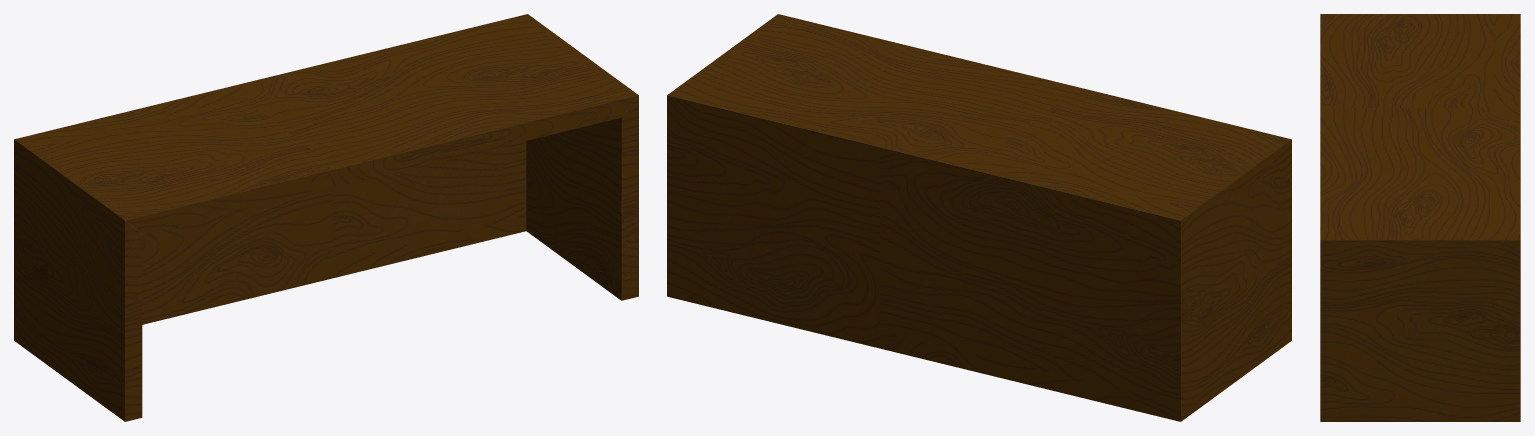
Rendered from Desk.fbx.
3 renders of one model, left to right at view 1: azimuth 30°, elevation 25°; view 2: azimuth 150°, elevation 25°; view 3: azimuth 270°, elevation 25°, orthographic. The views are drawn at different scales.
Visible parts, largest first — view 1: Desk; view 2: Desk; view 3: Desk.
Part boxes in pixels (<box>): Desk: <box>14,14,638,421</box>; Desk: <box>667,14,1291,421</box>; Desk: <box>1320,14,1520,421</box>.
Bounding box in the file's own units: 149 × 55.9 × 55.9.
